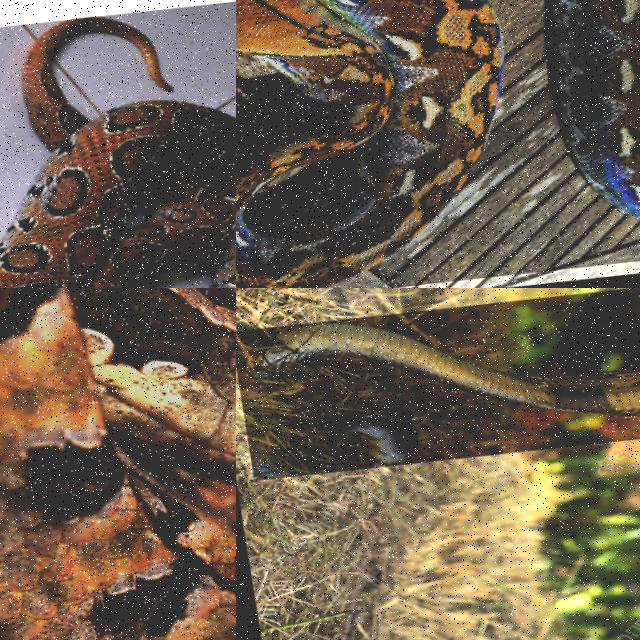Calloselasma rhodostoma: (0, 288, 235, 639)
Daboia siamensis: (0, 16, 235, 287)
Malayopython reticulatus: (236, 0, 502, 287)
Naja kaouthia: (264, 322, 639, 417)
